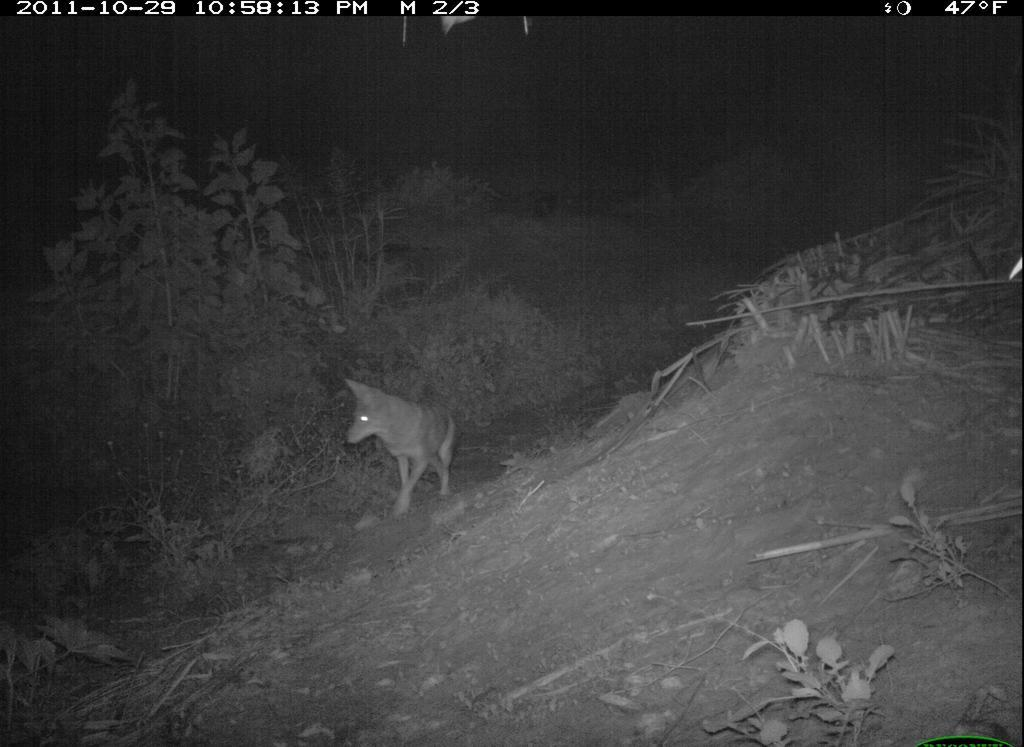coyote: (338, 376, 464, 520)
